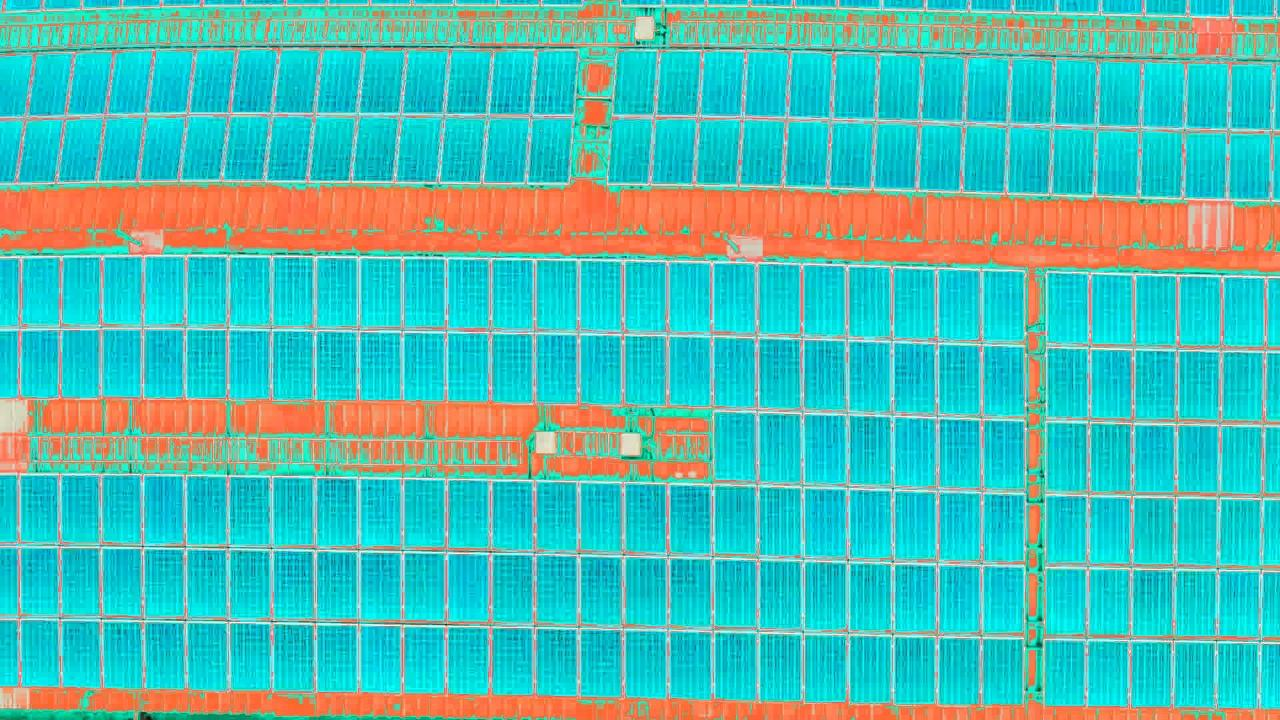dirty: (31, 478, 1033, 711), (9, 256, 1033, 424), (1038, 275, 1280, 701), (611, 47, 1276, 199), (8, 56, 578, 194), (709, 417, 1030, 488)
